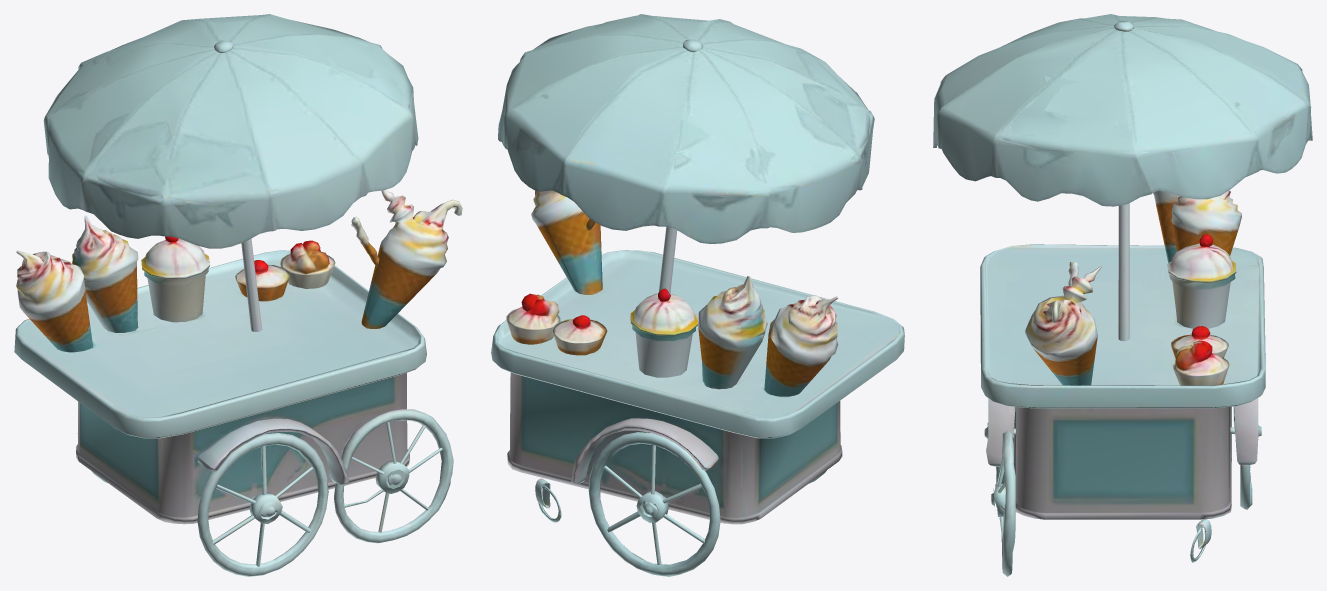
File: icecream_cart.glb
The picture shows the model from 3 angles, left to right: view 1: azimuth 30°, elevation 25°; view 2: azimuth 150°, elevation 25°; view 3: azimuth 270°, elevation 25°; orthographic projection.
Bounding box in the file's own units: 0.7832 × 0.9517 × 0.666.
Materials: 1 (1 with a texture image).
